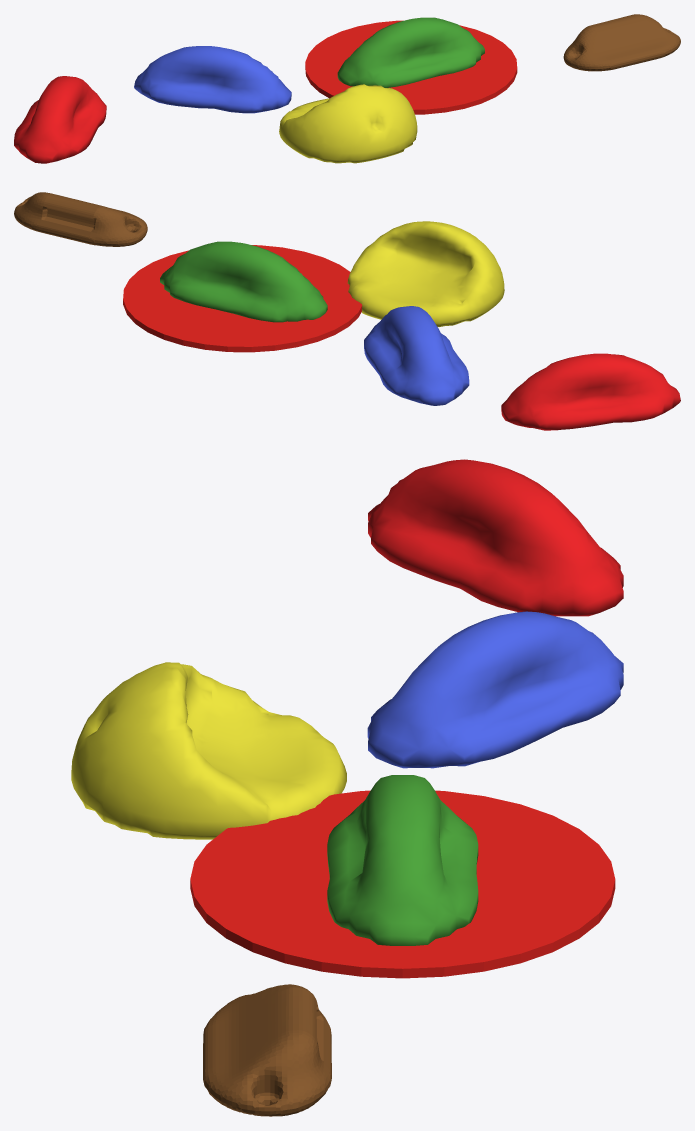
Rendered from climbing holds yup.glb.
3 renders of one model, top to bottom at view 1: azimuth 30°, elevation 25°; view 2: azimuth 150°, elevation 25°; view 3: azimuth 270°, elevation 25°, orthographic. The views are drawn at different scales.
Visible parts, largest first — view 1: JugCenter2, JugRight1, HoldMarkerOn, JugCenter1, JugLeft1, CrimpCenter1; view 2: JugCenter2, HoldMarkerOn, JugLeft1, JugCenter1, JugRight1, CrimpCenter1; view 3: HoldMarkerOn, JugCenter2, JugRight1, JugLeft1, JugCenter1, CrimpCenter1.
Boxes of the visible parts, x1,y1,x2,y2 form: JugCenter2: [279, 84, 417, 163]; JugRight1: [134, 46, 291, 113]; HoldMarkerOn: [305, 20, 517, 114]; JugCenter1: [337, 17, 484, 87]; JugLeft1: [14, 76, 106, 163]; CrimpCenter1: [563, 14, 680, 71]; JugCenter2: [347, 221, 504, 326]; HoldMarkerOn: [123, 245, 362, 352]; JugLeft1: [501, 353, 680, 430]; JugCenter1: [160, 241, 327, 322]; JugRight1: [364, 306, 469, 405]; CrimpCenter1: [14, 192, 147, 246]; HoldMarkerOn: [190, 790, 615, 978]; JugCenter2: [71, 662, 346, 839]; JugRight1: [367, 611, 623, 768]; JugLeft1: [368, 459, 623, 616]; JugCenter1: [327, 775, 478, 945]; CrimpCenter1: [203, 984, 331, 1116].
Size of what is drawn, in the model's own units: 2.01 by 0.1719 by 0.7801.
